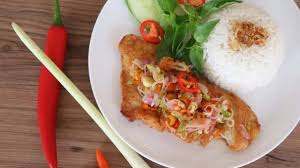ayam_geprek: (117, 37, 258, 158)
